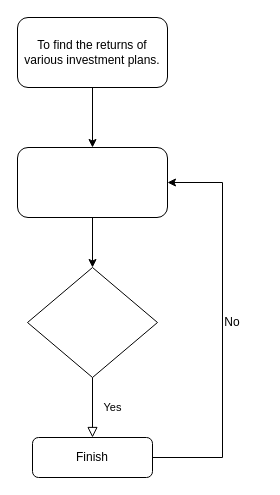
Some shapes in this 280 by 495 pixel diagram are drawn without their labels. The box of each missing label's shape, as (x1, y1, x2, y2) in pixels:
Does the plan give you the highest yield: (26, 266, 158, 378)
Select an investment plan among the four available plans.: (16, 146, 168, 218)
